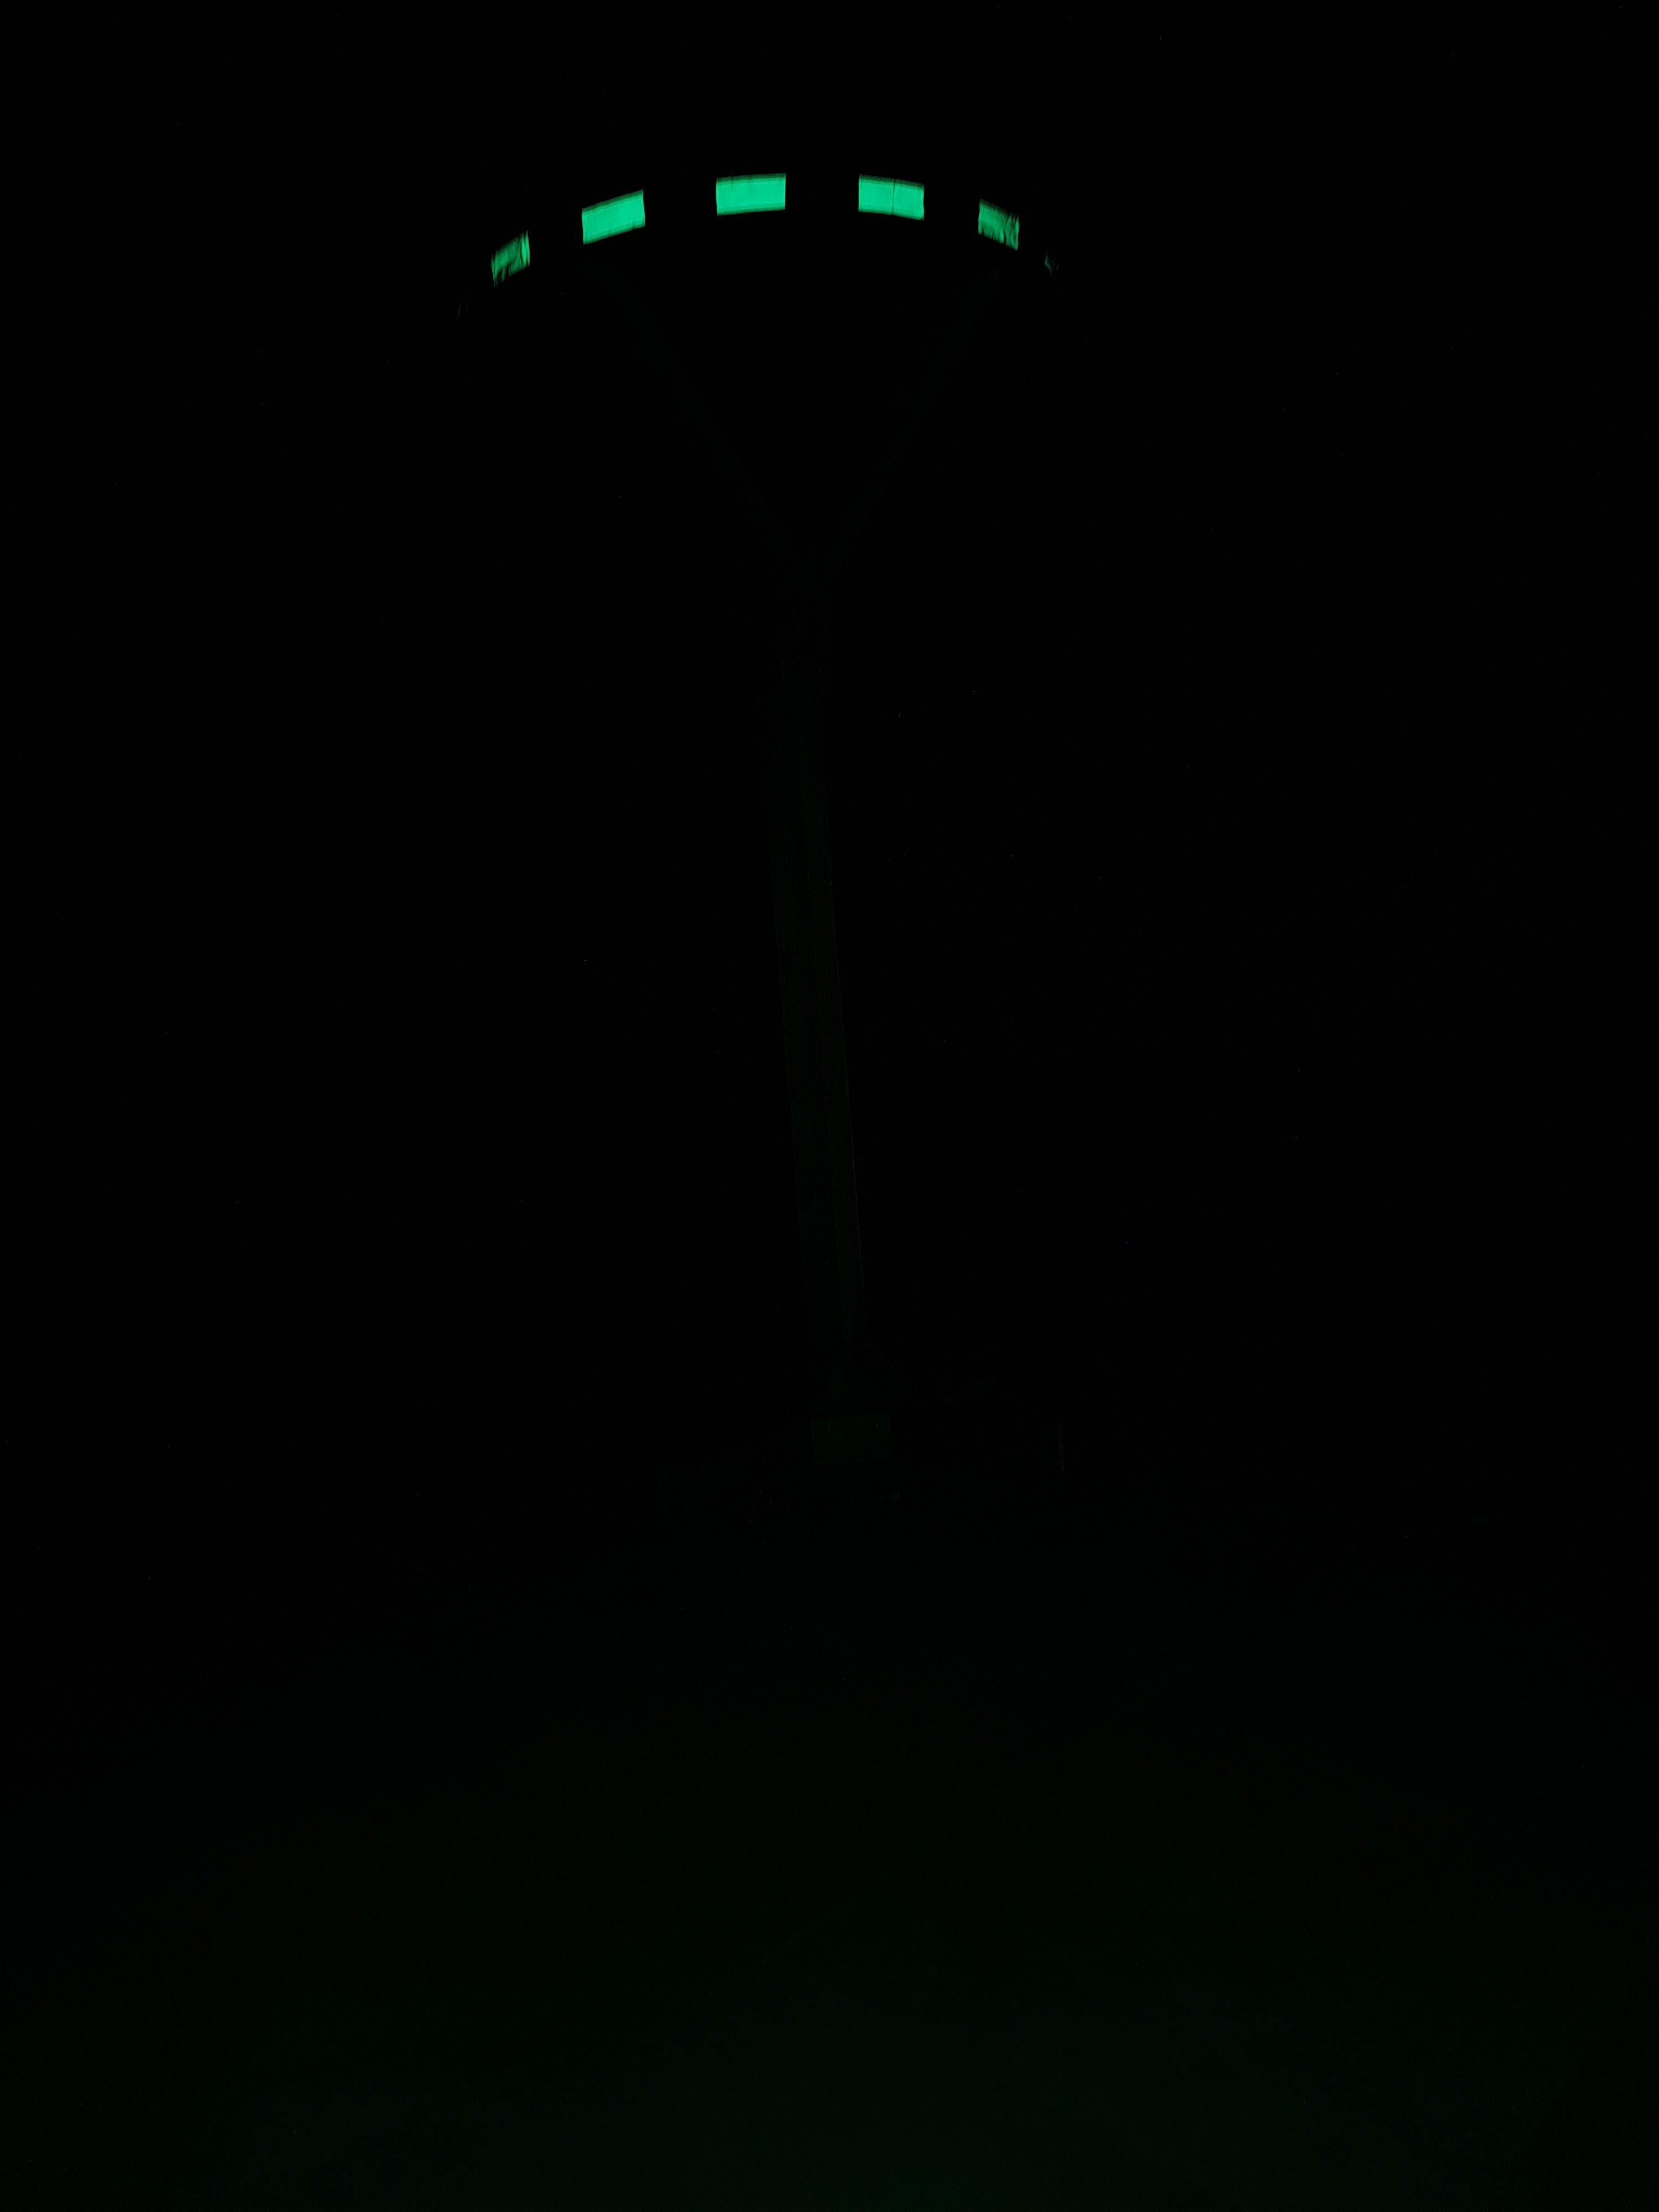hoop: (490, 172, 1023, 286)
